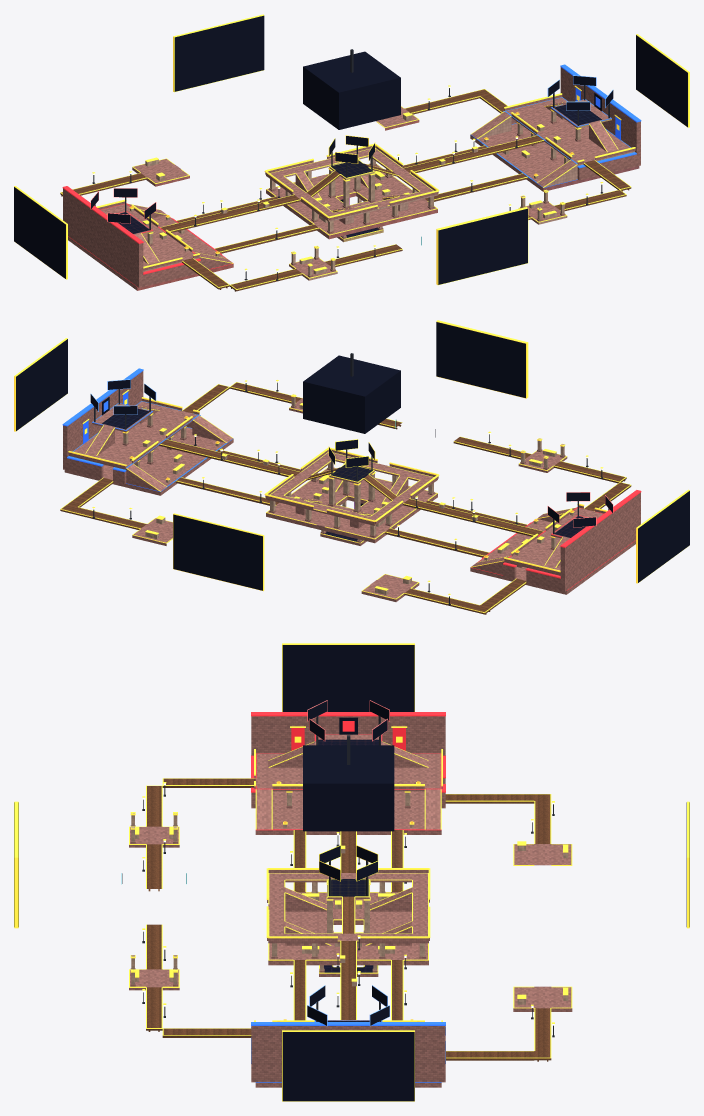
File: skyreach_map_v15.glb
3 renders of one model, top to bottom at view 1: azimuth 30°, elevation 25°; view 2: azimuth 150°, elevation 25°; view 3: azimuth 270°, elevation 25°, orthographic. The views are drawn at different scales.
Visible parts, largest first — view 1: skyreach_map_v15; view 2: skyreach_map_v15; view 3: skyreach_map_v15.
Boxes of the visible parts, <box> form: skyreach_map_v15: <box>14,14,689,291</box>; skyreach_map_v15: <box>14,320,689,614</box>; skyreach_map_v15: <box>14,643,689,1101</box>.
Bounding box in the file's own units: 218 × 59.62 × 160.
Materials: 28 (14 with a texture image).
